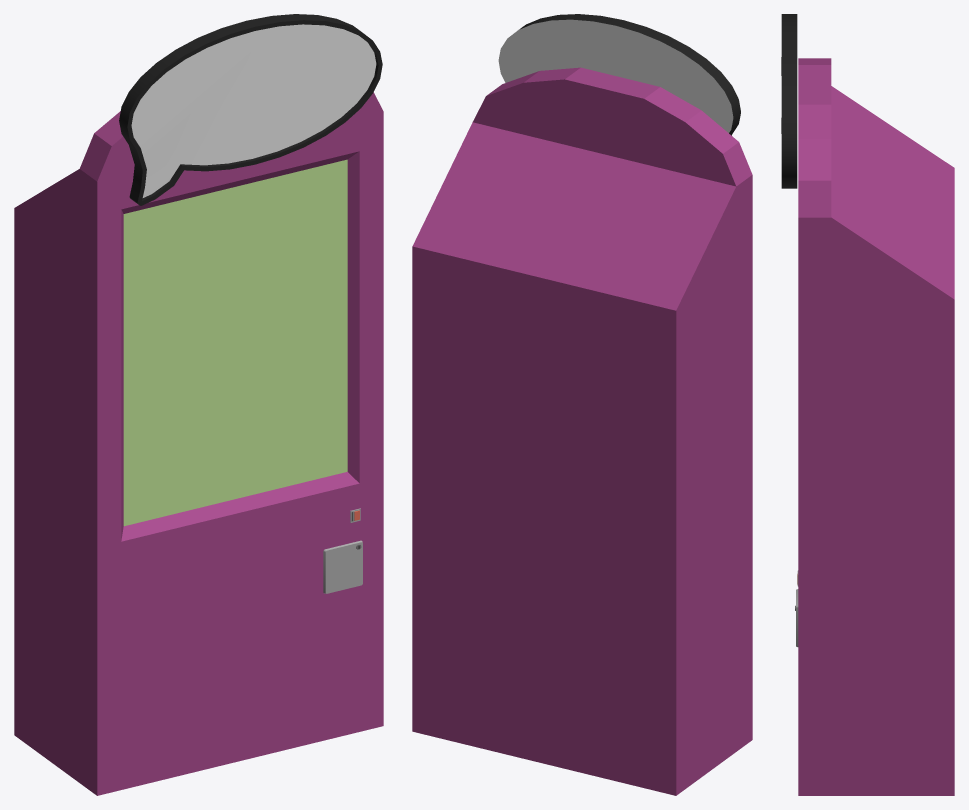
File: languageMachine.fbx
The picture shows the model from 3 angles, left to right: view 1: azimuth 30°, elevation 25°; view 2: azimuth 150°, elevation 25°; view 3: azimuth 270°, elevation 25°; orthographic projection. The views are drawn at different scales.
Parts seen in each view (by area): view 1: Language Machine, Speech Bubble Sign; view 2: Language Machine, Speech Bubble Sign; view 3: Language Machine, Speech Bubble Sign.
Part boxes in pixels (bbox=[...]): Language Machine: bbox=[14, 92, 383, 795]; Speech Bubble Sign: bbox=[119, 14, 382, 205]; Language Machine: bbox=[412, 67, 752, 795]; Speech Bubble Sign: bbox=[498, 14, 740, 135]; Language Machine: bbox=[795, 58, 954, 795]; Speech Bubble Sign: bbox=[781, 14, 797, 188].
Bounding box in the file's own units: 88.68 × 49.28 × 219.
